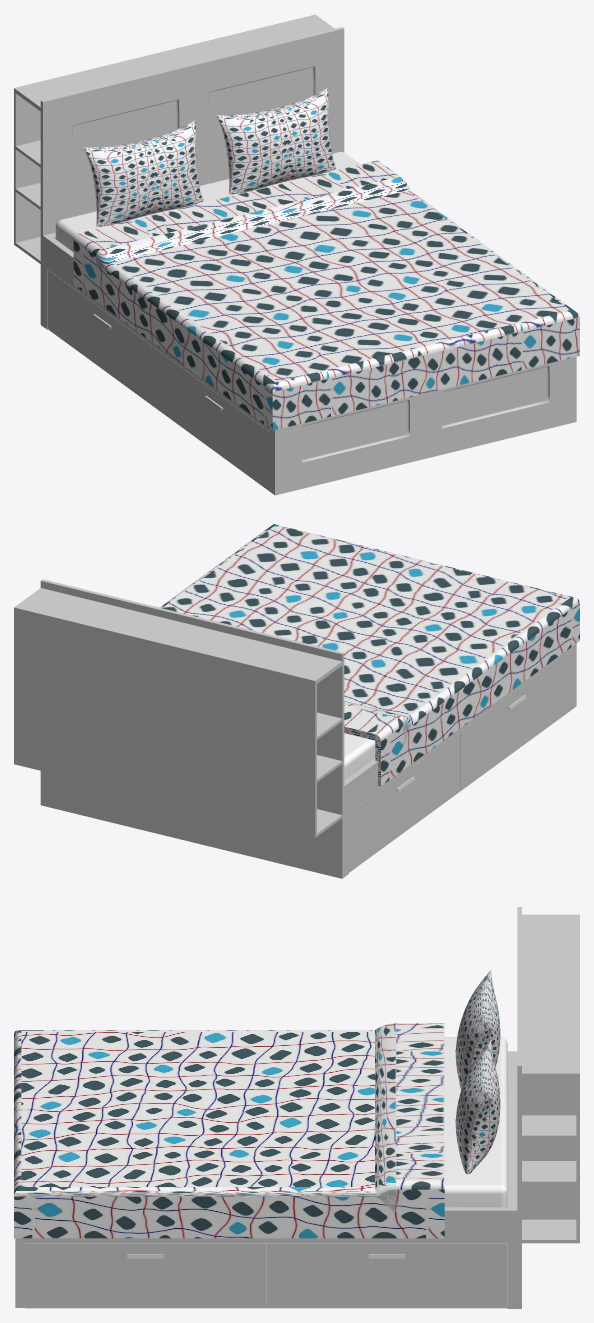
Rendered from BRIMNES_Bed_with_Storage_head_and_Drawers_Large_2_Places.obj.
The picture shows the model from 3 angles, top to bottom: view 1: azimuth 30°, elevation 25°; view 2: azimuth 150°, elevation 25°; view 3: azimuth 270°, elevation 25°; orthographic projection. The views are drawn at different scales.
Visible parts, largest first — view 1: Generic_Models, 11, Rectangle003, 2, Rectangle017, Rectangle007, Box001, Box002, Rectangle019, Rectangle013, Rectangle014, Rectangle004 (+7 smaller); view 2: Rectangle005, Generic_Models, Rectangle007, Rectangle004, 11, Rectangle013, Rectangle014, 2, Rectangle012, Rectangle010, ChamferBox001, Rectangle003 (+2 smaller); view 3: Generic_Models, Rectangle024, 11, 2, Rectangle004, ChamferBox001, Rectangle006, Rectangle025, Box002, Rectangle010, Box001, Rectangle011 (+5 smaller).
Part boxes in pixels (x1,y1,x2,y2): Generic_Models: (96,177,570,382); 11: (73,240,579,430); Rectangle003: (42,28,344,326); 2: (73,160,579,392); Rectangle017: (270,356,576,495); Rectangle007: (40,27,342,325); Box001: (83,120,203,226); Box002: (216,88,336,194); Rectangle019: (303,367,546,459); Rectangle013: (47,270,158,407); Rectangle014: (159,351,270,489); Rectangle004: (14,14,334,111); Rectangle005: (14,611,316,837); Generic_Models: (162,525,570,745); Rectangle007: (40,580,343,878); Rectangle004: (14,588,342,684); 11: (381,602,579,785); Rectangle013: (349,732,460,870); Rectangle014: (460,650,571,788); 2: (160,524,579,786); Rectangle012: (344,647,571,812); Rectangle010: (317,712,342,836); ChamferBox001: (344,733,375,780); Rectangle003: (42,579,344,877); Generic_Models: (14,1023,396,1212); Rectangle024: (25,1243,507,1305); 11: (14,1189,444,1238); 2: (14,1023,444,1194); Rectangle004: (522,914,579,1078); ChamferBox001: (444,1037,507,1207); Rectangle006: (522,1078,576,1219); Rectangle025: (25,1207,507,1243); Box002: (455,1040,500,1174); Rectangle010: (522,1115,576,1243); Box001: (455,970,500,1089); Rectangle011: (507,1051,517,1308).
Size of the model in its own units: 1590 by 1110 by 2345.
